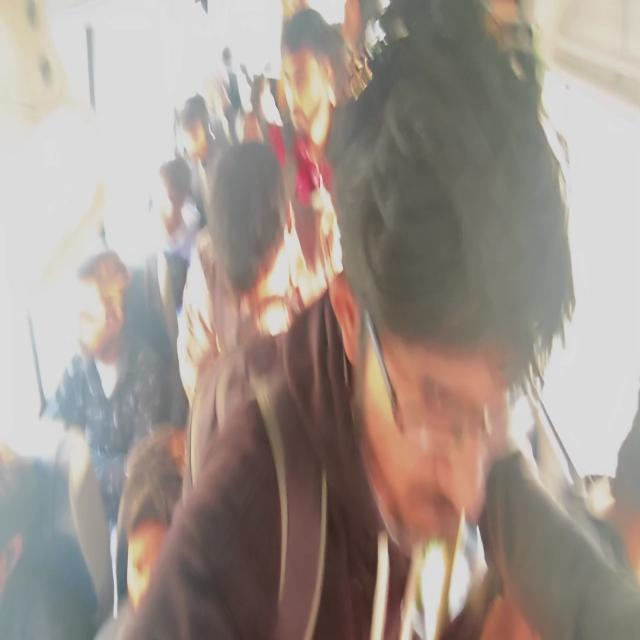person: (115, 5, 576, 637), (326, 8, 576, 557), (41, 245, 180, 617), (176, 139, 292, 407), (477, 447, 639, 638)
